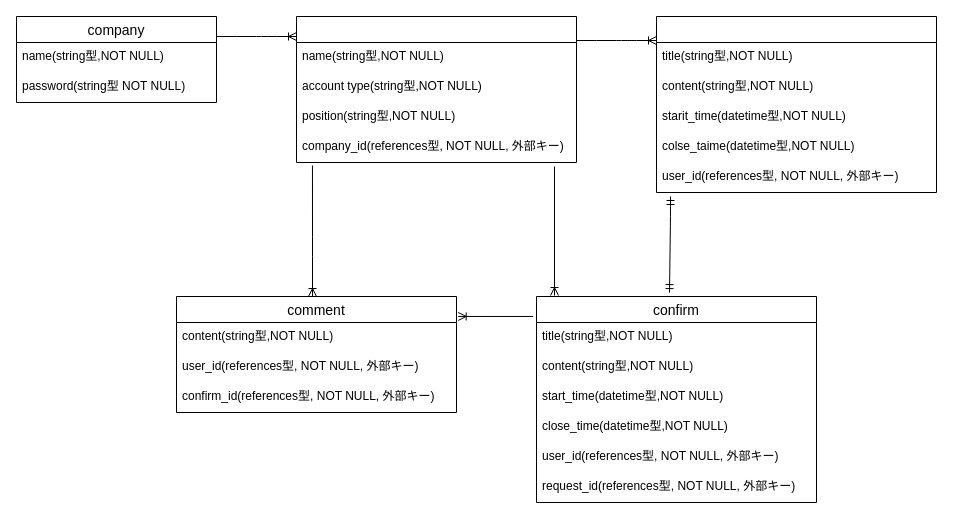
Some shapes in this 953 by 519 pixel diagram are drawn without their labels. Each missing label, with the box of its shape:
request: (656, 16, 936, 192)
user: (296, 16, 576, 162)
